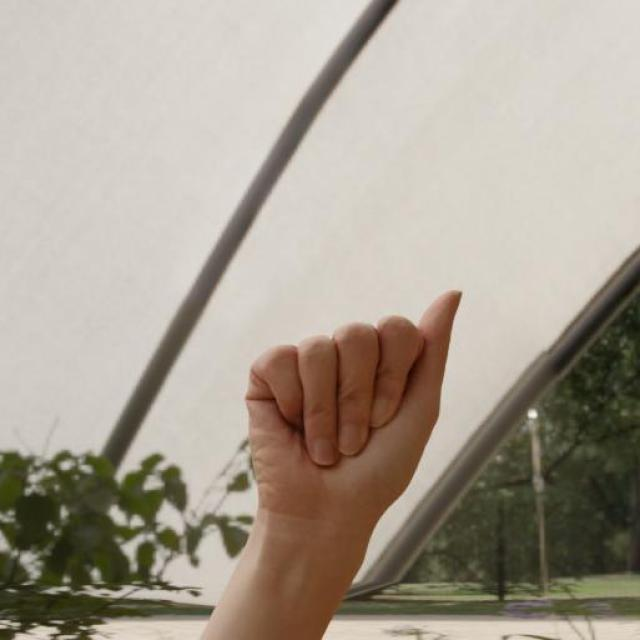A: (241, 284, 465, 534)
